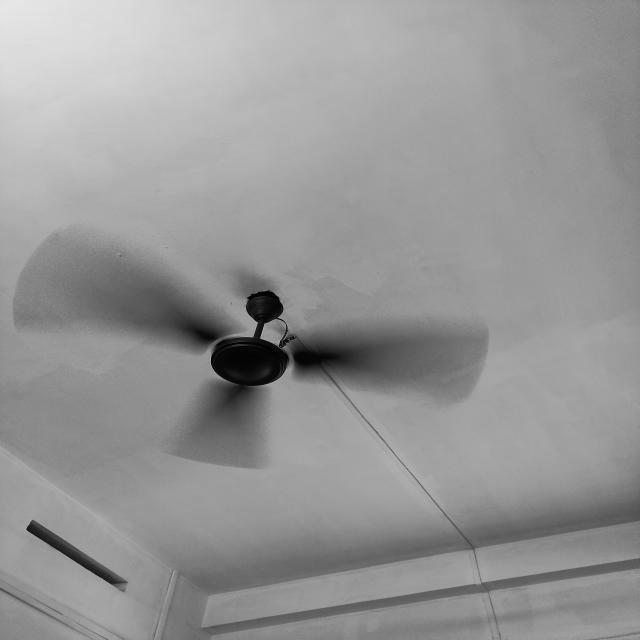fan: (8, 210, 492, 477)
